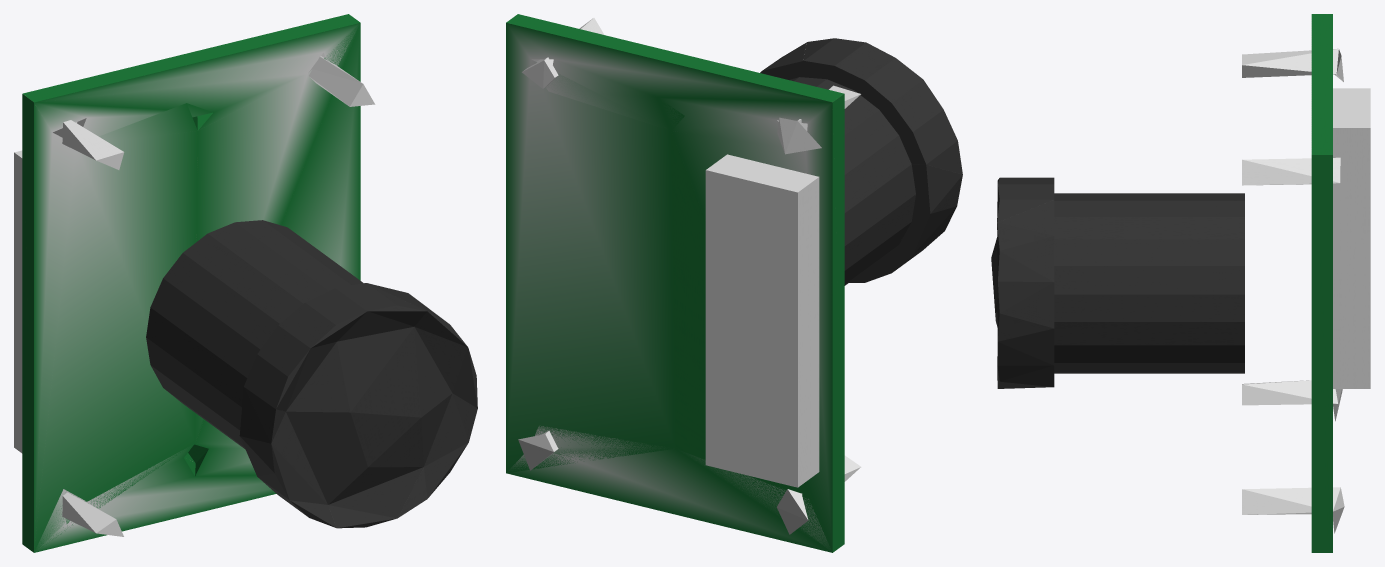
Rendered from vi_camera.dae.
The picture shows the model from 3 angles, left to right: view 1: azimuth 30°, elevation 25°; view 2: azimuth 150°, elevation 25°; view 3: azimuth 270°, elevation 25°; orthographic projection. The views are drawn at different scales.
Visible parts, largest first — view 1: node; view 2: node; view 3: node.
Part boxes in pixels (x1,y1,x2,y2): node: [14, 14, 477, 552]; node: [506, 14, 962, 552]; node: [991, 14, 1370, 552].
Bounding box in the file's own units: 0.022 × 0.029 × 0.0251.
Materials: 1 (1 with a texture image).
